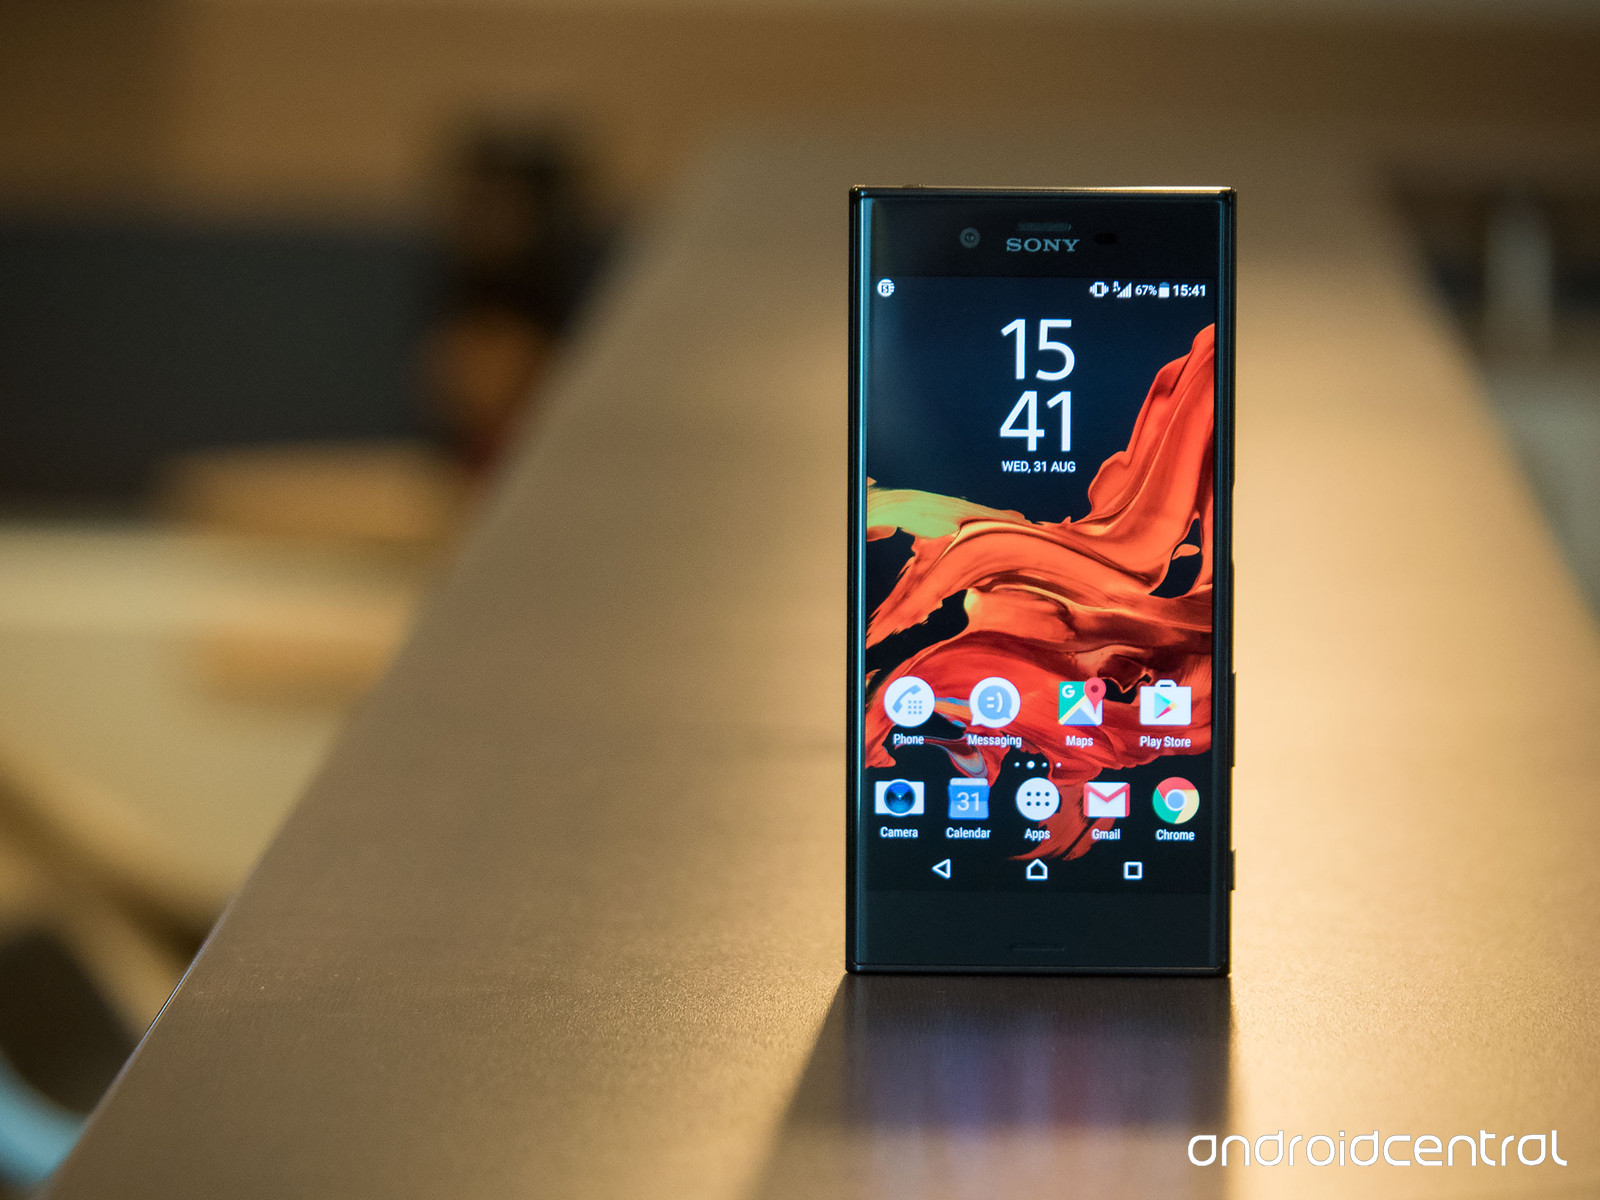smartphone: (844, 187, 1238, 979)
